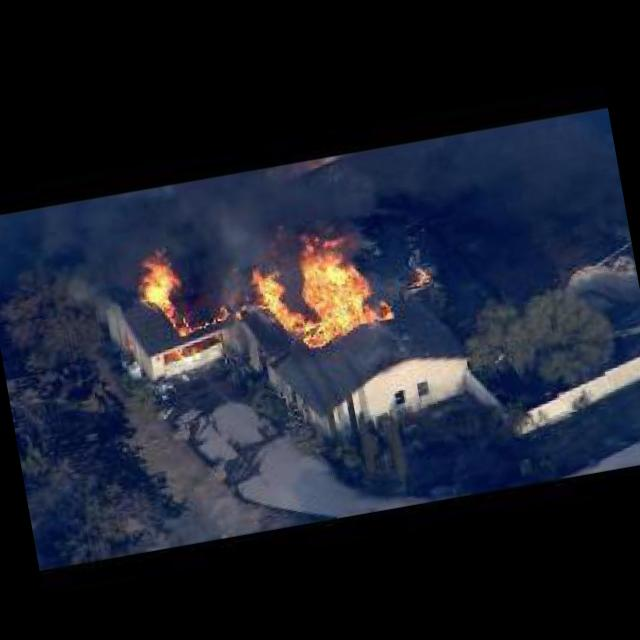fire: (286, 214, 396, 348), (131, 240, 194, 342), (250, 260, 318, 339), (410, 262, 430, 286), (210, 302, 228, 322), (194, 320, 210, 327), (233, 309, 241, 320)
